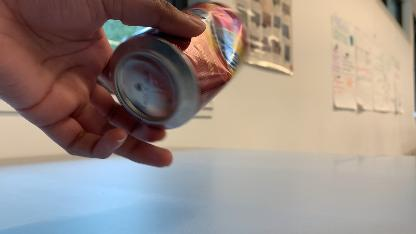Can: (102, 17, 256, 137)
